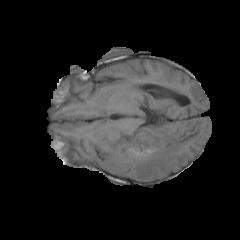glioma: (102, 85, 200, 179)
